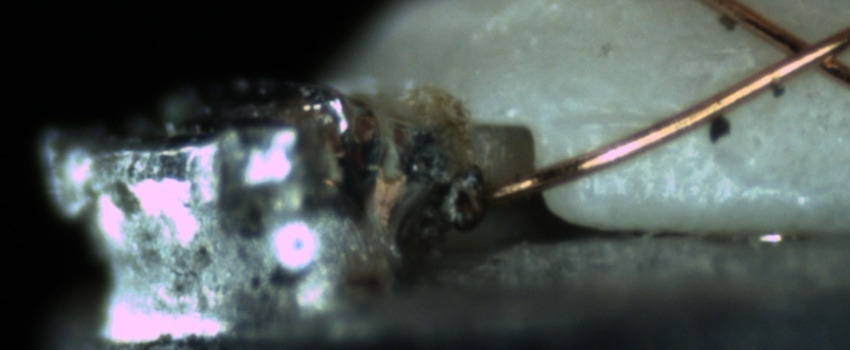CL: (756, 16, 849, 84)
DL: (571, 87, 713, 148)
